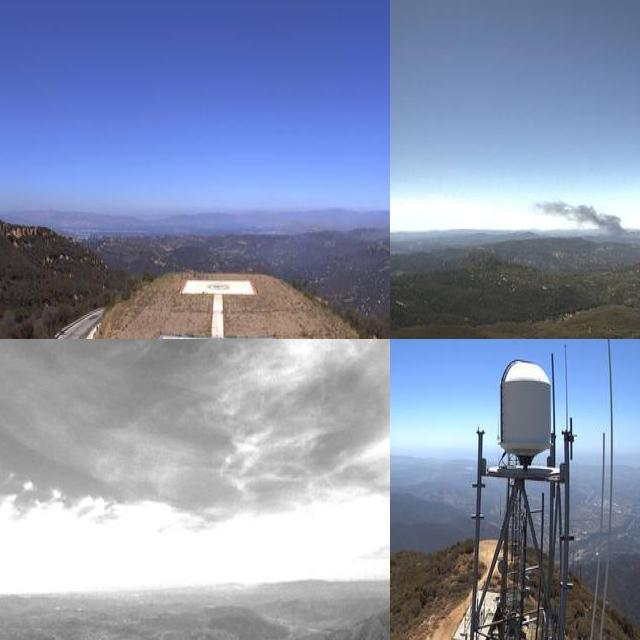smoke: (530, 196, 627, 237)
